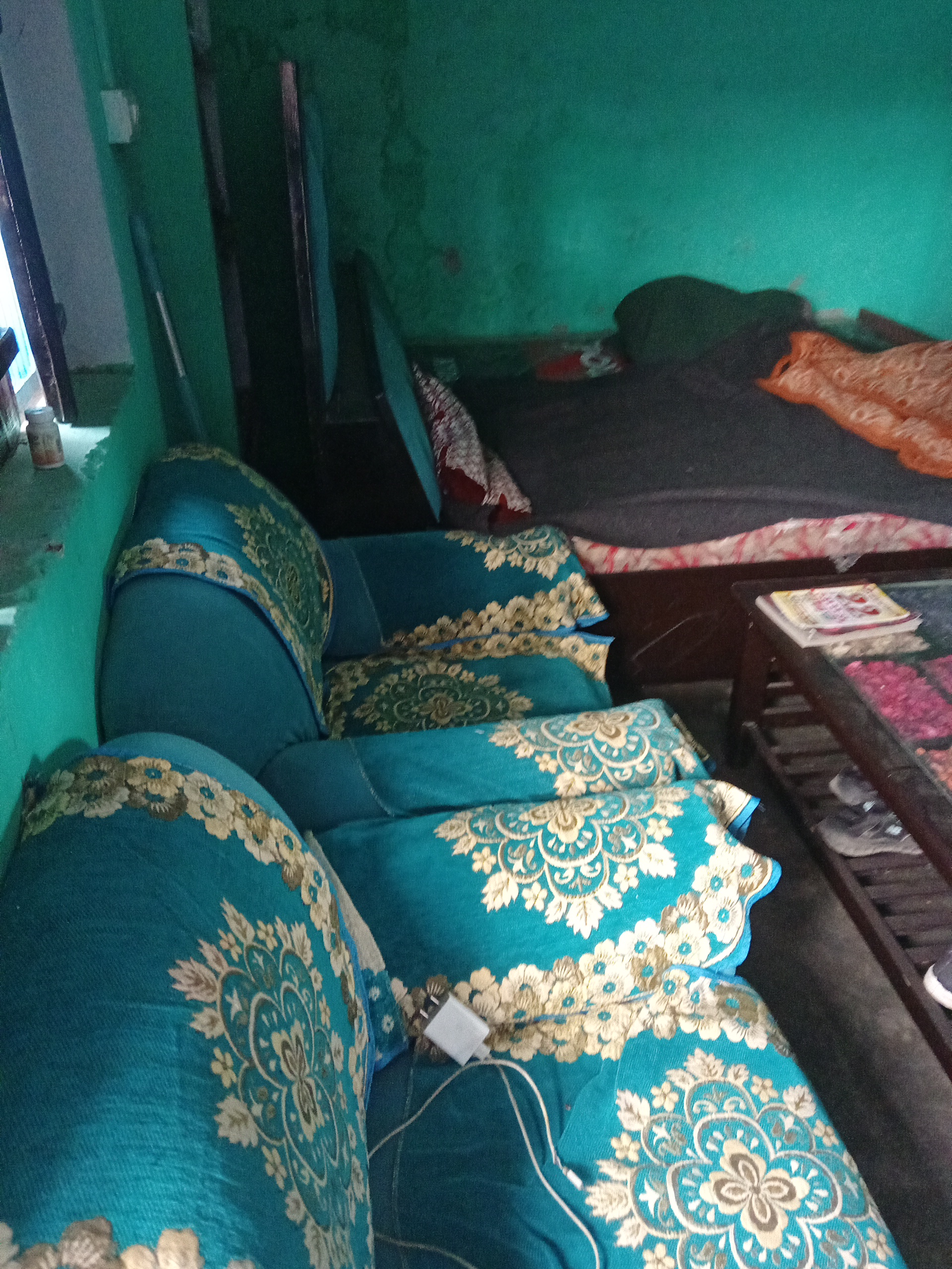bed: (352, 254, 952, 683)
sofa: (0, 737, 905, 1269), (100, 441, 708, 830)
table: (743, 544, 952, 1074)
